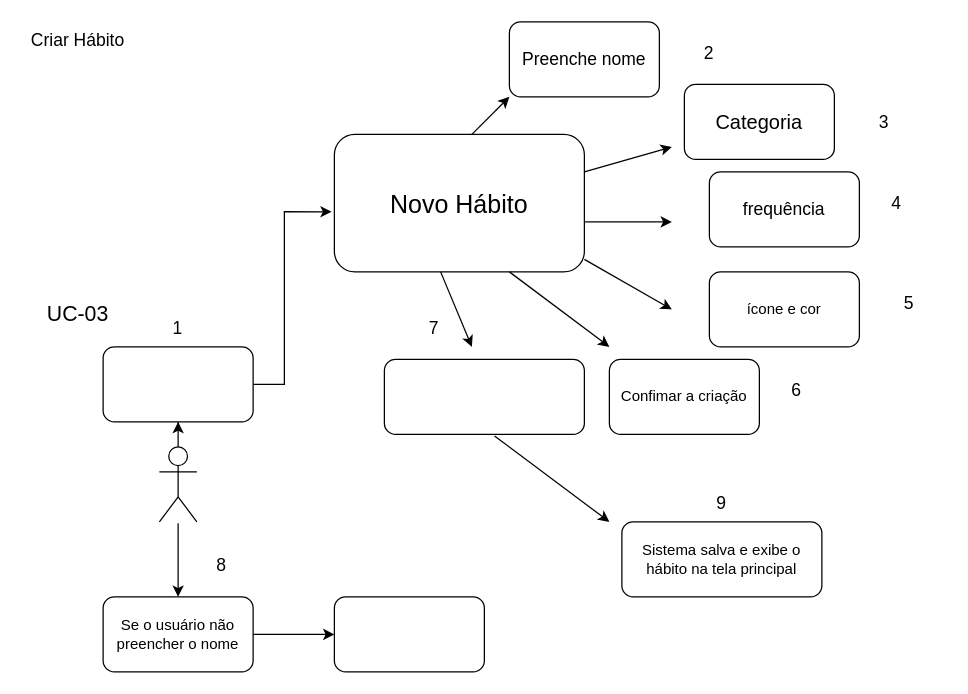
Some shapes in this 968 by 694 pixel diagram are drawn without their labels. The shapes that lost their labels are listed below. From the top down, each one's centre as x and y in pixels, then its label:
(x=177, y=384): Pré-condição: Usuário acessa "Novo hábito"
(x=483, y=396): Confimar Hábito criado e disponível para check-in diáriocriação
(x=177, y=484): Usuario
(x=408, y=634): O sistema exibe mensagem de erro e solicita preechiemento
